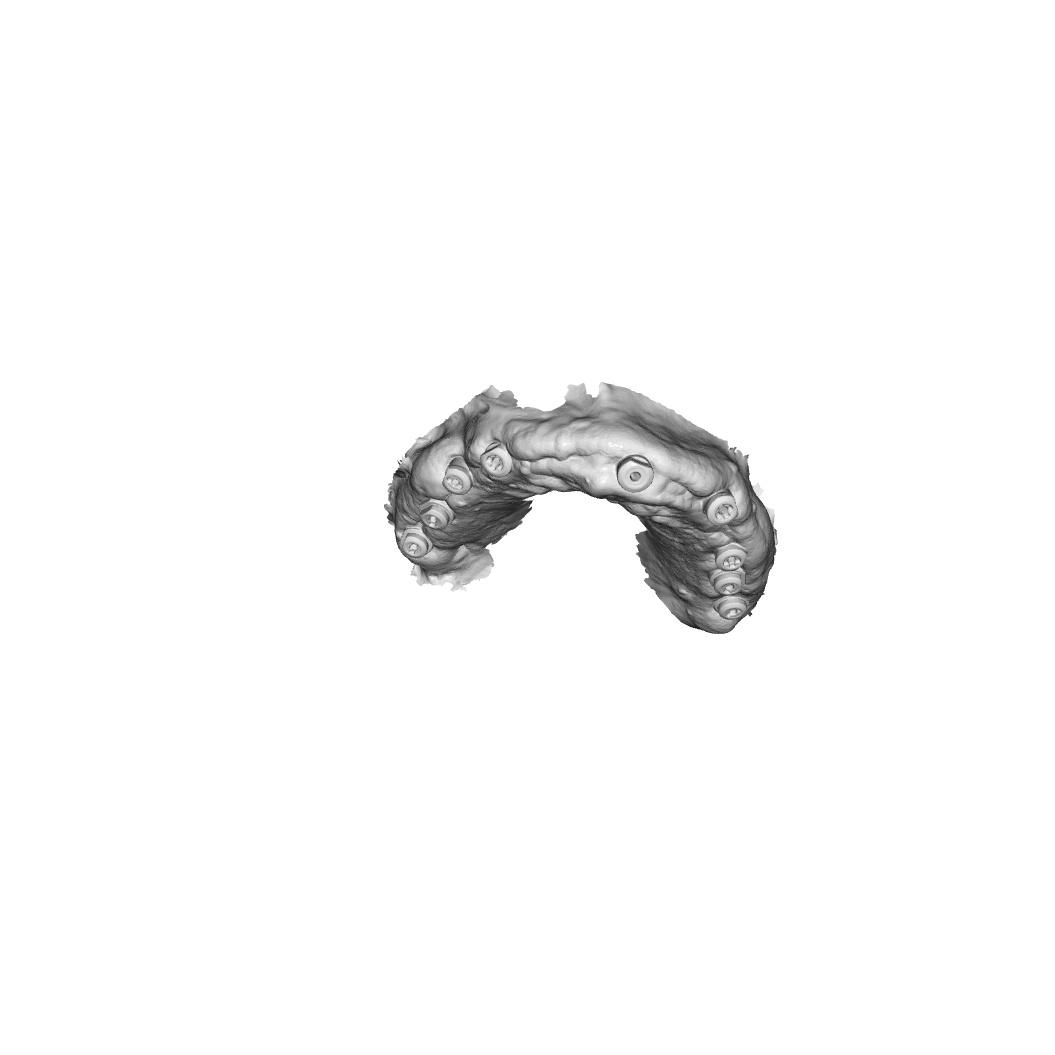implant: (616, 454, 655, 494)
implant_minus: (399, 521, 434, 559), (417, 497, 456, 531), (441, 455, 473, 496), (713, 594, 750, 620), (709, 571, 742, 597)
implant_plus: (703, 491, 740, 527), (479, 441, 513, 479), (714, 543, 748, 572)
